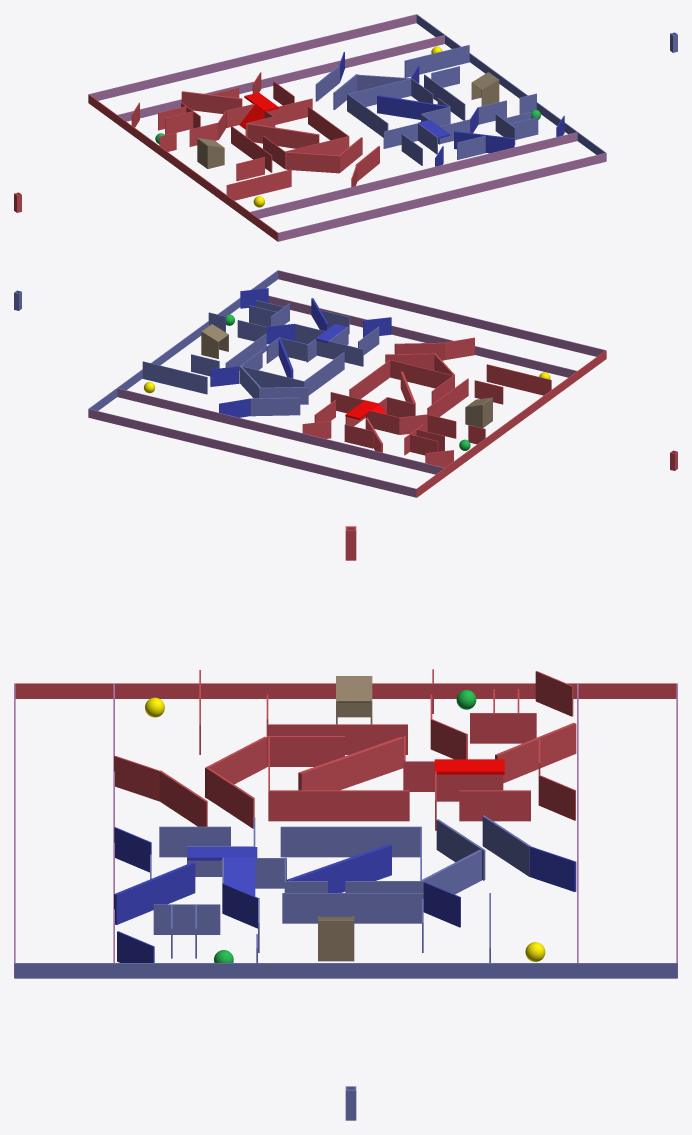
File: maze2.glb
The picture shows the model from 3 angles, top to bottom: view 1: azimuth 30°, elevation 25°; view 2: azimuth 150°, elevation 25°; view 3: azimuth 270°, elevation 25°; orthographic projection. The views are drawn at different scales.
Parts seen in each view (by area): view 1: Mesh_18, Mesh_31, Mesh_17, Mesh_30, Mesh_16, Mesh_15, Mesh_59, Mesh_28, Mesh_62, Mesh_25, Mesh_63, Mesh_67 (+28 smaller); view 2: Mesh_17, Mesh_30, Mesh_18, Mesh_31, Mesh_16, Mesh_15, Mesh_28, Mesh_62, Mesh_60, Mesh_78, Mesh_33, Mesh_27 (+30 smaller); view 3: Mesh_15, Mesh_16, Mesh_61, Mesh_27, Mesh_4, Mesh_59, Mesh_37, Mesh_67, Mesh_51, Mesh_25, Mesh_54, Mesh_3 (+27 smaller).
Part boxes in pixels (<box>): Mesh_18: <box>278,153,606,241</box>; Mesh_31: <box>250,132,577,218</box>; Mesh_17: <box>89,14,416,100</box>; Mesh_30: <box>117,35,444,121</box>; Mesh_16: <box>88,94,277,241</box>; Mesh_15: <box>416,14,606,160</box>; Mesh_59: <box>247,123,319,148</box>; Mesh_28: <box>404,45,469,77</box>; Mesh_62: <box>226,169,291,200</box>; Mesh_25: <box>377,95,448,119</box>; Mesh_63: <box>286,152,340,173</box>; Mesh_67: <box>181,91,242,113</box>; Mesh_17: <box>88,409,416,497</box>; Mesh_30: <box>117,388,444,474</box>; Mesh_18: <box>278,270,605,356</box>; Mesh_31: <box>268,295,577,377</box>; Mesh_16: <box>416,350,606,497</box>; Mesh_15: <box>88,270,278,410</box>; Mesh_28: <box>142,361,207,394</box>; Mesh_62: <box>486,364,551,395</box>; Mesh_60: <box>390,360,454,388</box>; Mesh_78: <box>250,397,300,416</box>; Mesh_33: <box>316,340,363,366</box>; Mesh_27: <box>304,352,344,395</box>; Mesh_15: <box>14,963,677,978</box>; Mesh_16: <box>15,683,677,698</box>; Mesh_61: <box>268,790,409,821</box>; Mesh_27: <box>280,826,421,857</box>; Mesh_4: <box>282,893,423,923</box>; Mesh_59: <box>298,737,403,790</box>; Mesh_37: <box>114,862,195,924</box>; Mesh_67: <box>495,722,576,783</box>; Mesh_51: <box>266,724,407,754</box>; Mesh_25: <box>286,844,391,892</box>; Mesh_54: <box>266,736,344,766</box>; Mesh_3: <box>459,790,530,821</box>.
Bounding box in the file's own units: 403 × 14.01 × 200.
